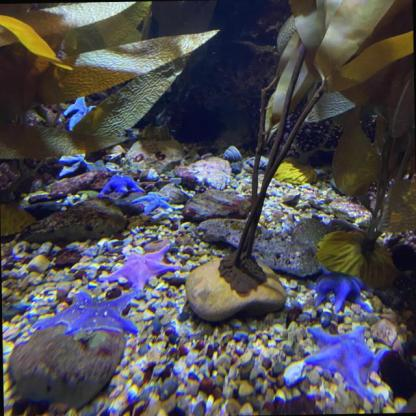starfish: (303, 323, 391, 402), (30, 288, 147, 336), (96, 242, 181, 289), (308, 266, 380, 318), (61, 94, 98, 132), (96, 173, 144, 197), (56, 151, 95, 179), (133, 189, 174, 215)
